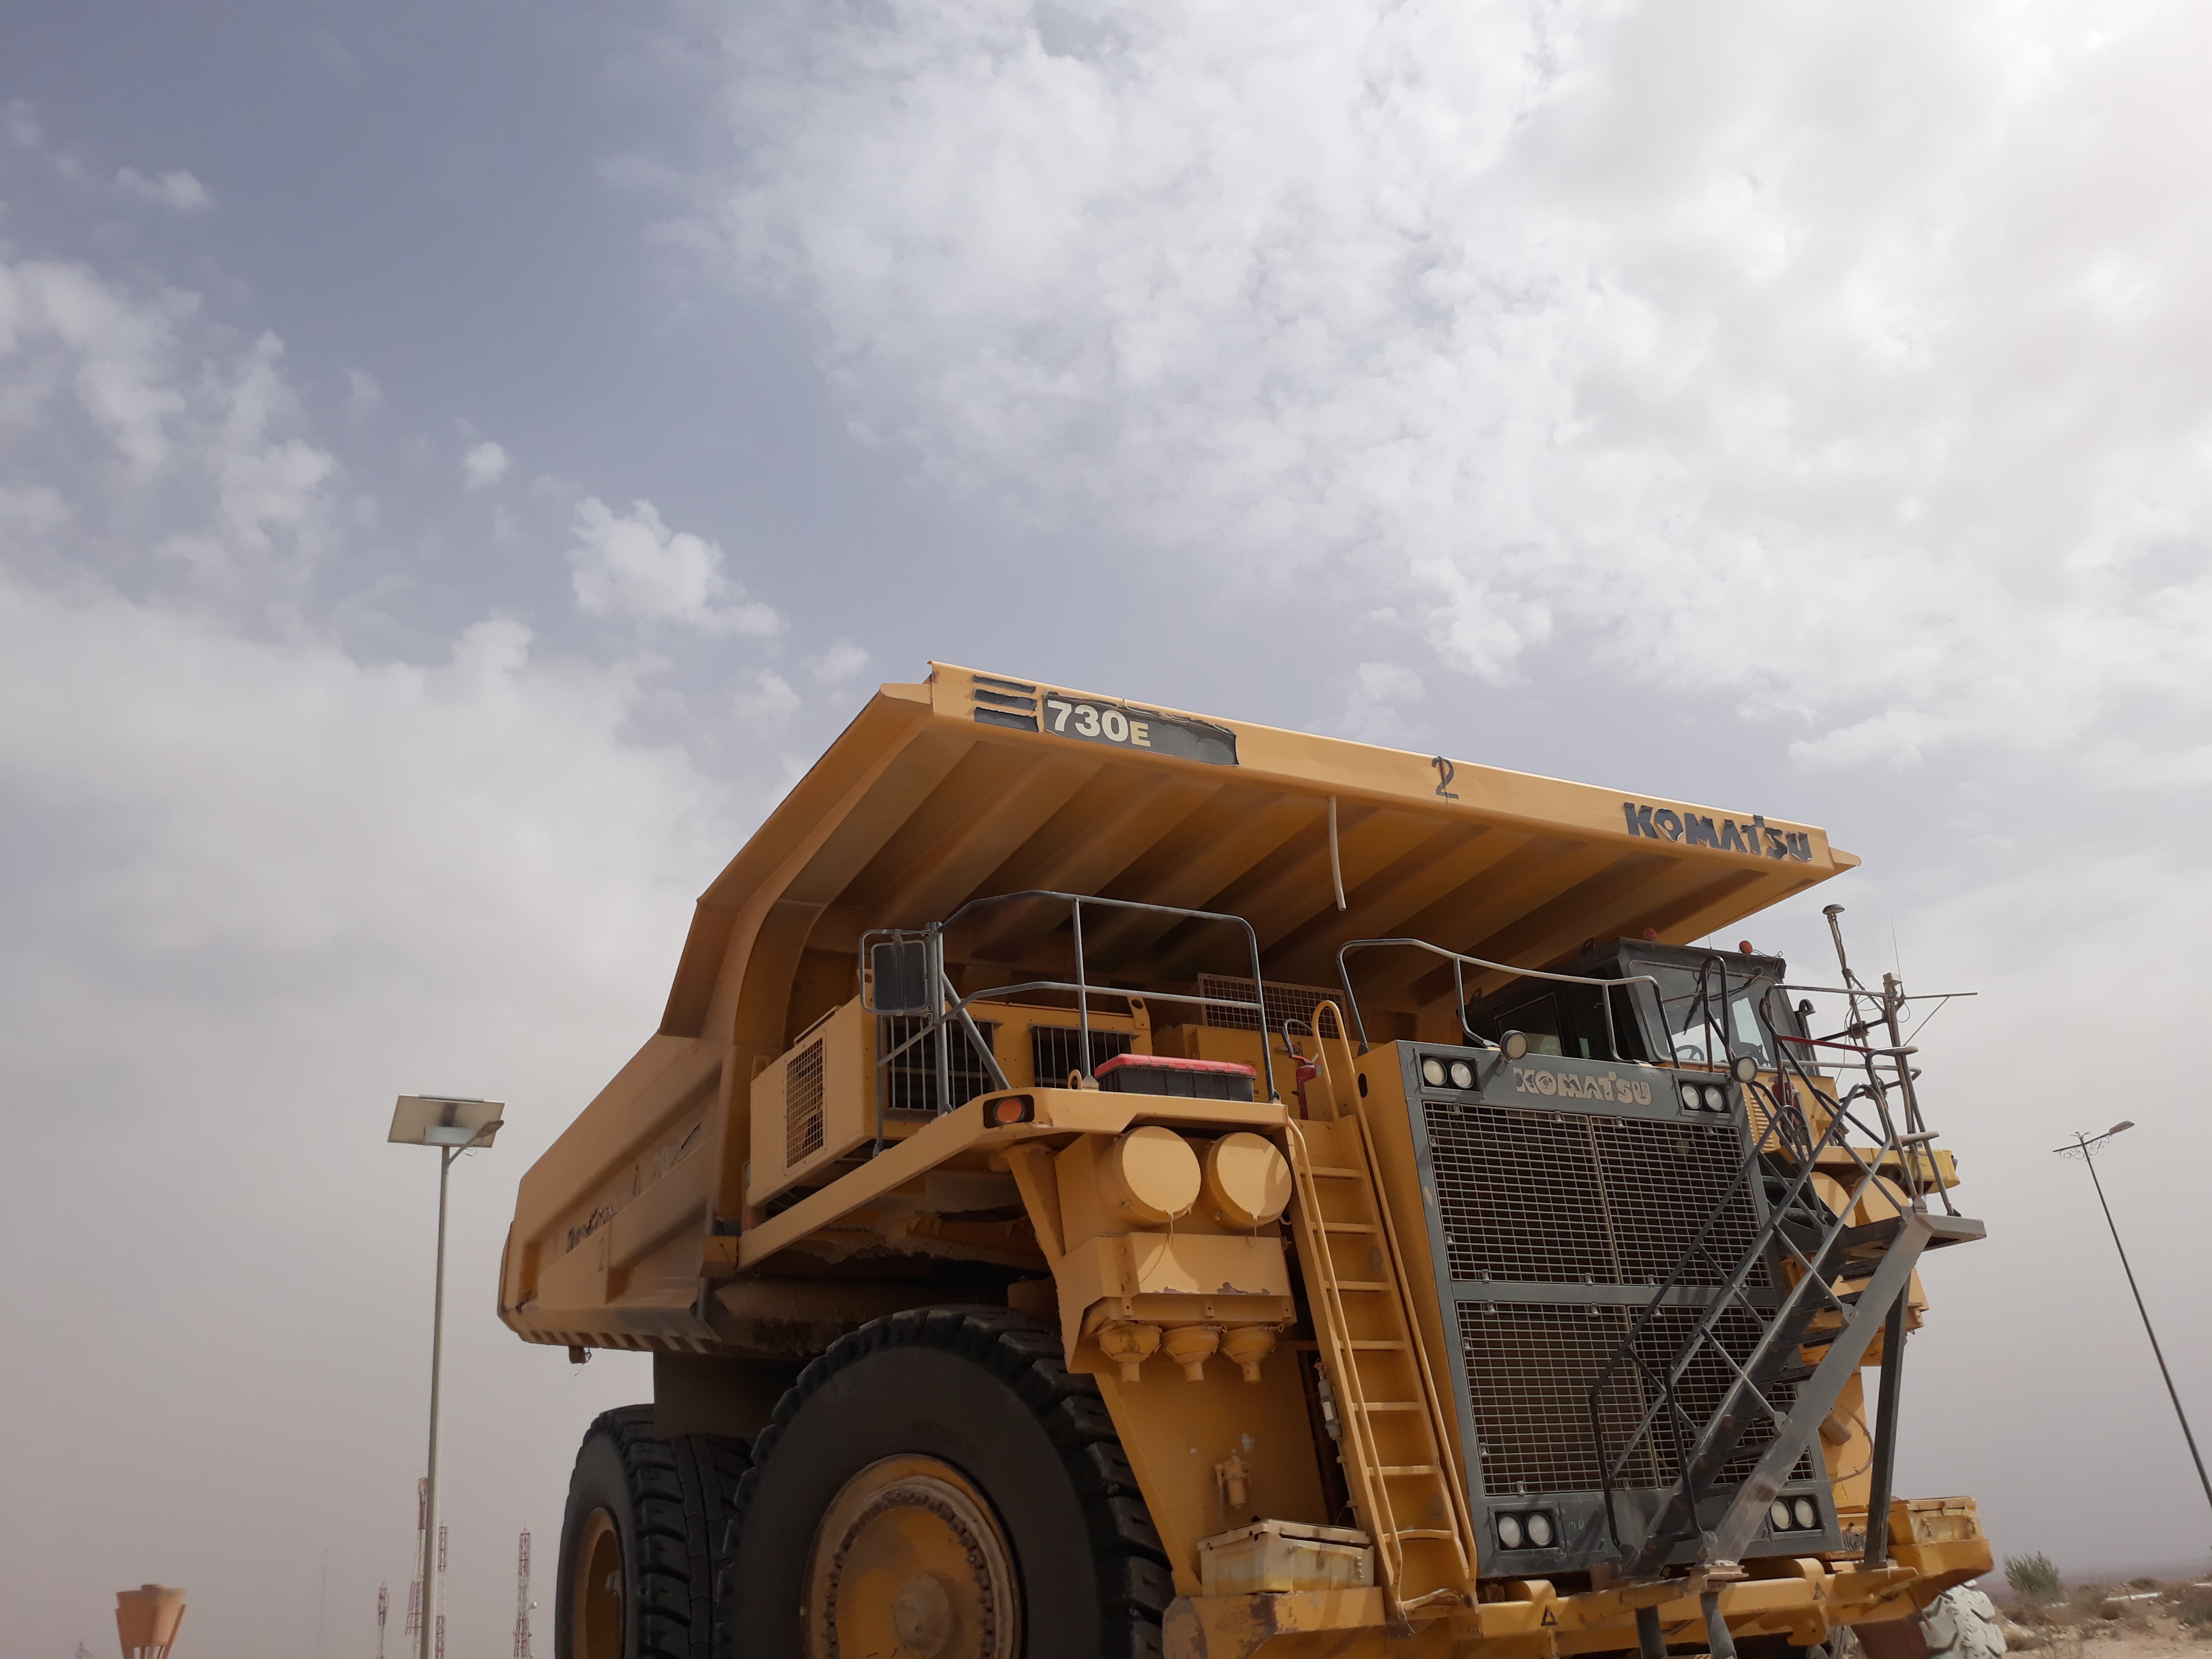camion: (475, 664, 2040, 1659)
